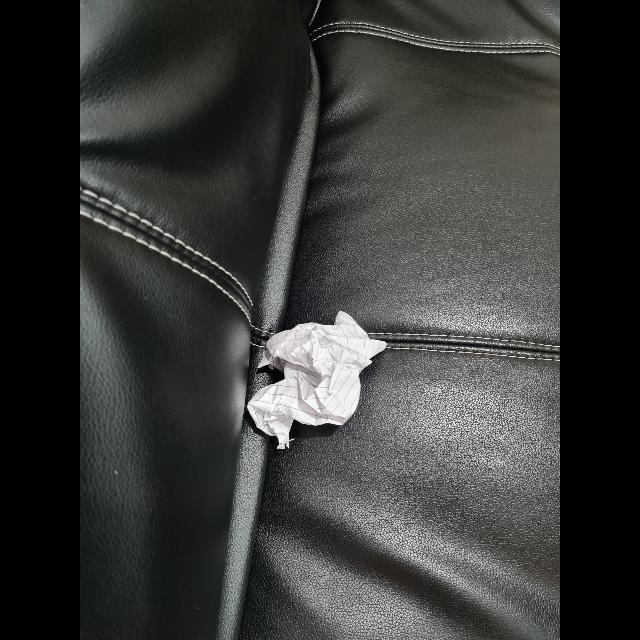scrap_paper: (254, 312, 386, 450)
